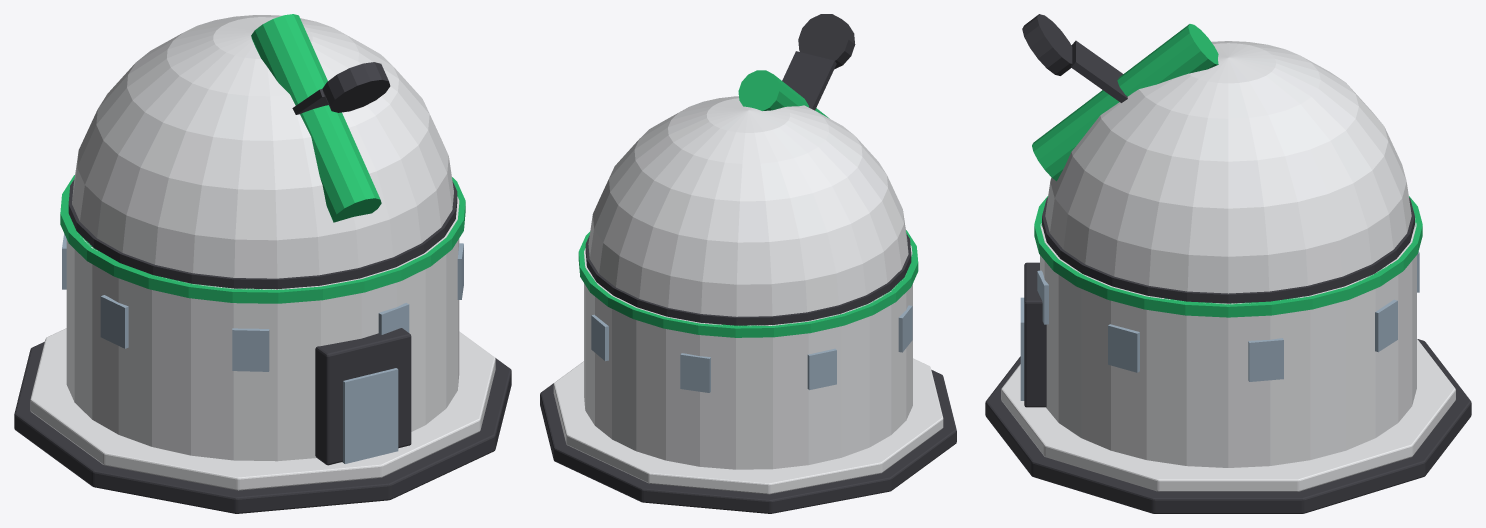
Rendered from observatory.glb.
3 renders of one model, left to right at view 1: azimuth 30°, elevation 25°; view 2: azimuth 150°, elevation 25°; view 3: azimuth 270°, elevation 25°, orthographic. The views are drawn at different scales.
Visible parts, largest first — view 1: observatory, spin_dome; view 2: observatory, spin_dome; view 3: observatory, spin_dome.
Part boxes in pixels (x1,y1,x2,y2): observatory: [14, 175, 511, 513]; spin_dome: [68, 14, 457, 289]; observatory: [540, 230, 956, 513]; spin_dome: [585, 14, 911, 325]; observatory: [985, 196, 1471, 513]; spin_dome: [1022, 14, 1414, 303].
Size of the model in its own units: 11.79 by 11.22 by 12.38.
